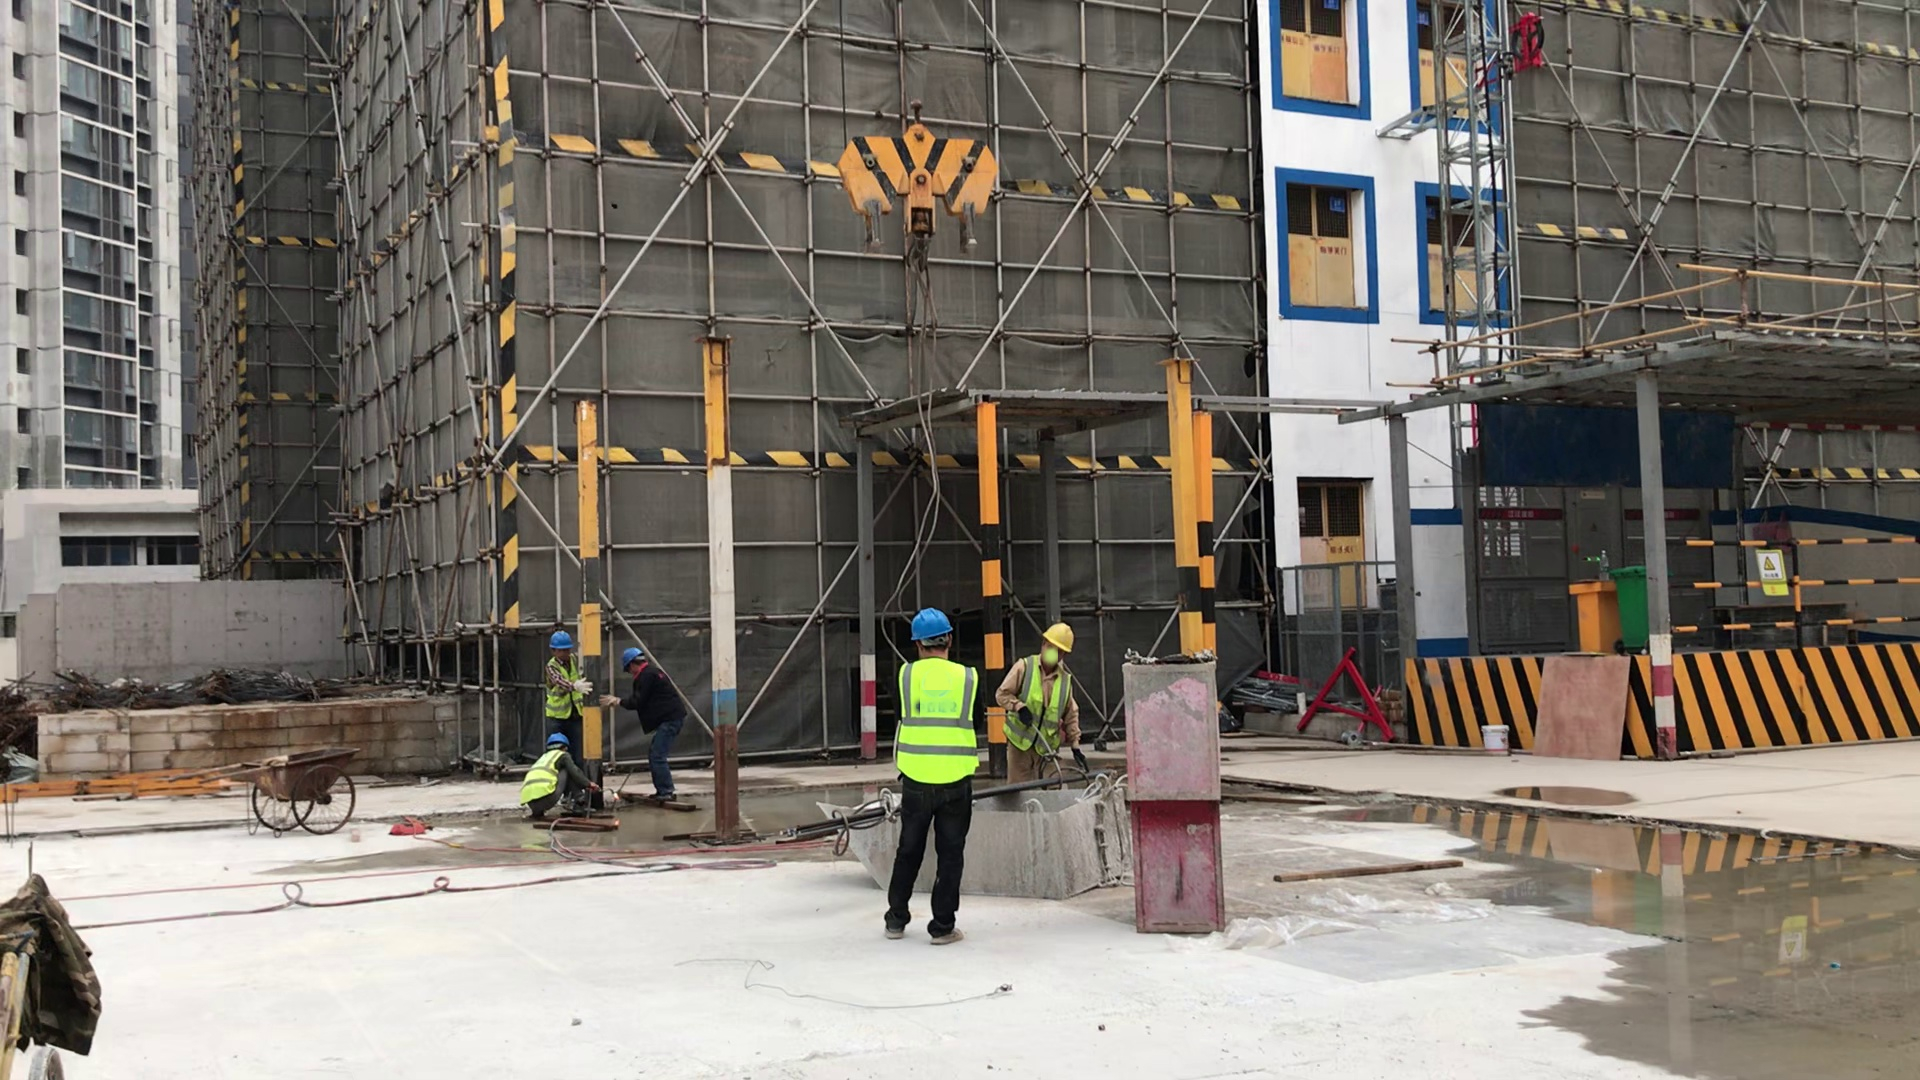helmet: (907, 605, 955, 645), (1040, 619, 1086, 655), (543, 625, 578, 651), (619, 644, 646, 671), (542, 730, 574, 750)
person: (885, 585, 1005, 969), (990, 600, 1117, 765), (611, 626, 711, 827), (500, 719, 616, 845), (529, 611, 601, 738)
vest: (886, 647, 982, 800), (1009, 650, 1076, 758), (510, 746, 578, 816), (541, 658, 591, 719)
